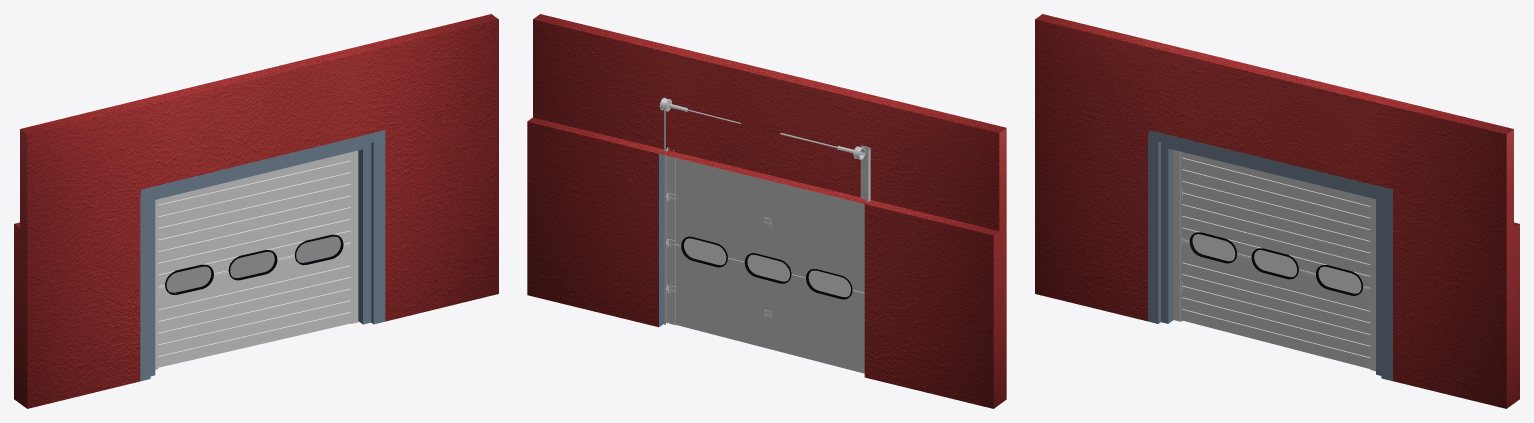
File: gar_ind.glb
3 renders of one model, left to right at view 1: azimuth 30°, elevation 25°; view 2: azimuth 150°, elevation 25°; view 3: azimuth 330°, elevation 25°, orthographic.
Parts seen in each view (by area): view 1: pCube7, Garage_doors_N240118:______3, pPlane1, pPlane2; view 2: pCube7, Garage_doors_N240118:______3, pPlane1, pPlane2; view 3: pCube7, Garage_doors_N240118:______3, pPlane1, pPlane2.
Part boxes in pixels (x1=…): pCube7: x1=14, y1=14, x2=498, y2=408; Garage_doors_N240118:______3: x1=155, y1=150, x2=358, y2=369; pPlane1: x1=166, y1=252, x2=275, y2=293; pPlane2: x1=296, y1=236, x2=341, y2=263; pCube7: x1=527, y1=14, x2=1006, y2=408; Garage_doors_N240118:______3: x1=659, y1=97, x2=870, y2=373; pPlane1: x1=746, y1=254, x2=850, y2=297; pPlane2: x1=683, y1=238, x2=726, y2=265; pCube7: x1=1035, y1=14, x2=1519, y2=408; Garage_doors_N240118:______3: x1=1173, y1=150, x2=1375, y2=371; pPlane1: x1=1191, y1=234, x2=1296, y2=277; pPlane2: x1=1318, y1=266, x2=1361, y2=293.
Bounding box in the file's own units: 5.54 × 3.08 × 0.353.
Materials: 6 (1 with a texture image).
